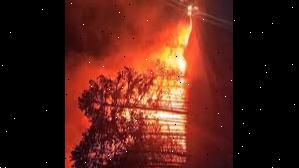fire: (140, 27, 189, 144)
